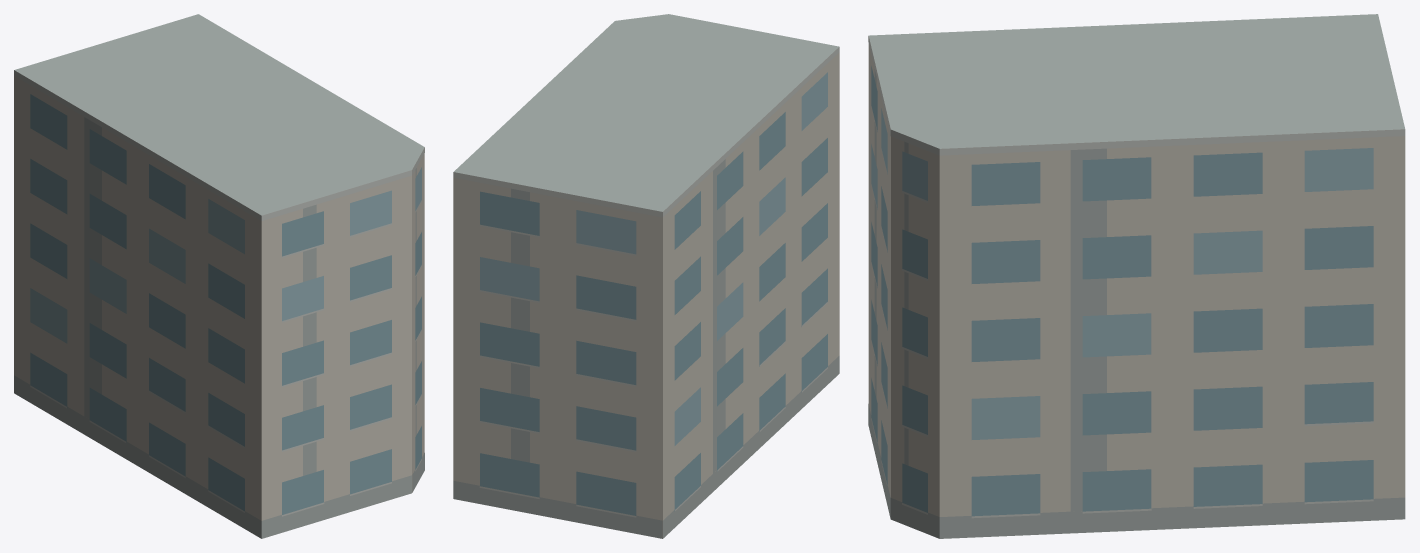
Rendered from survey-upis-32636099.glb.
3 views of the same model, side by side, from view 1: azimuth 30°, elevation 25°; view 2: azimuth 150°, elevation 25°; view 3: azimuth 270°, elevation 25° (orthographic). The views are drawn at different scales.
Visible parts, largest first — view 1: survey-upis-32636099.tmp; view 2: survey-upis-32636099.tmp; view 3: survey-upis-32636099.tmp.
Part boxes in pixels (x1,y1,x2,y2): survey-upis-32636099.tmp: [14, 14, 424, 538]; survey-upis-32636099.tmp: [453, 14, 839, 538]; survey-upis-32636099.tmp: [868, 14, 1405, 538].
Size of the model in its own units: 10.47 by 14.1 by 17.6.
